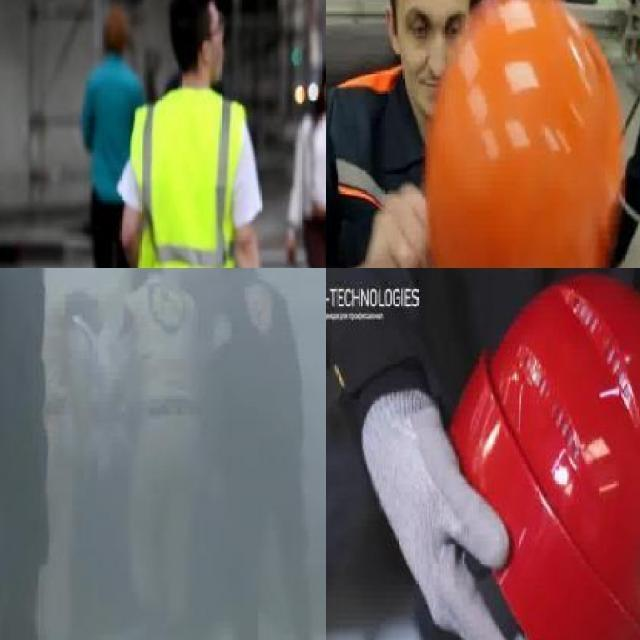apron: (361, 384, 559, 640)
